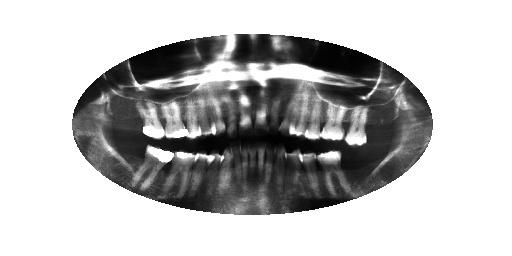i10decay: (228, 146, 241, 199)
i11decay: (219, 147, 236, 200)
i12healthy: (209, 153, 226, 202)
i13healthy: (192, 151, 216, 206)
i14healthy: (162, 151, 197, 202)
i15healthy: (129, 143, 181, 191)
i16loss: (118, 146, 144, 173)
i1loss: (344, 152, 371, 180)
i2healthy: (315, 150, 352, 194)
i3healthy: (299, 151, 323, 202)
i4chipped: (284, 148, 306, 199)
i5decay: (273, 146, 286, 194)
i6decay: (267, 146, 277, 194)
i7decay: (257, 146, 270, 190)
i8decay: (248, 143, 260, 191)
i9decay: (237, 144, 252, 189)
u10decay: (218, 87, 239, 141)
u11decay: (207, 95, 228, 134)
u12healthy: (195, 102, 214, 137)
u13healthy: (183, 102, 201, 143)
u14healthy: (160, 101, 188, 143)
u15healthy: (131, 97, 165, 144)
u16loss: (120, 96, 140, 131)
u1loss: (368, 107, 392, 138)
u2healthy: (344, 106, 370, 148)
u3healthy: (318, 99, 347, 146)
u4healthy: (306, 98, 322, 142)
u5healthy: (288, 93, 306, 137)
u6loss: (280, 99, 290, 135)
u7loss: (267, 96, 282, 134)
u8decay: (254, 89, 269, 135)
u9decay: (235, 85, 253, 139)
